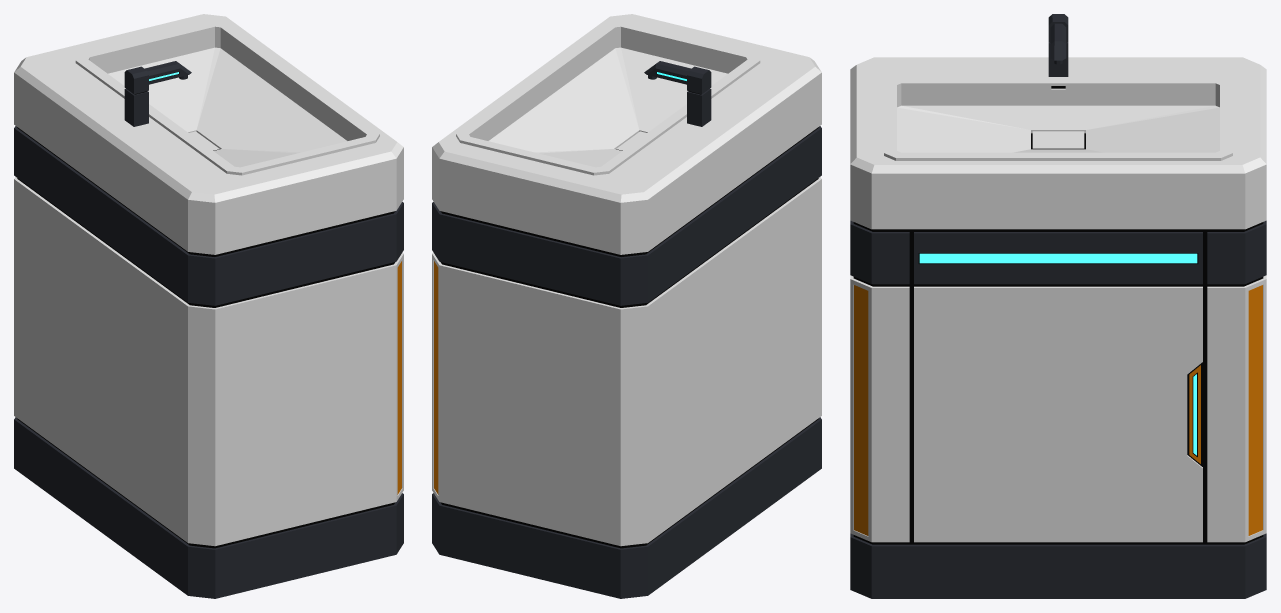
The model's file is SM_Sink_Cabinet.fbx.
3 renders of one model, left to right at view 1: azimuth 30°, elevation 25°; view 2: azimuth 150°, elevation 25°; view 3: azimuth 270°, elevation 25°, orthographic. The views are drawn at different scales.
Visible parts, largest first — view 1: SM_Sink_Cabinet_Base; view 2: SM_Sink_Cabinet_Base; view 3: SM_Sink_Cabinet_Base, SM_Sink_Cabinet_Door.
Part boxes in pixels (x1,y1,x2,y2): SM_Sink_Cabinet_Base: (14, 14, 403, 598); SM_Sink_Cabinet_Base: (432, 14, 821, 598); SM_Sink_Cabinet_Base: (850, 14, 1266, 598); SM_Sink_Cabinet_Door: (914, 286, 1202, 542).
Bounding box in the file's own units: 45 × 90.26 × 70.
